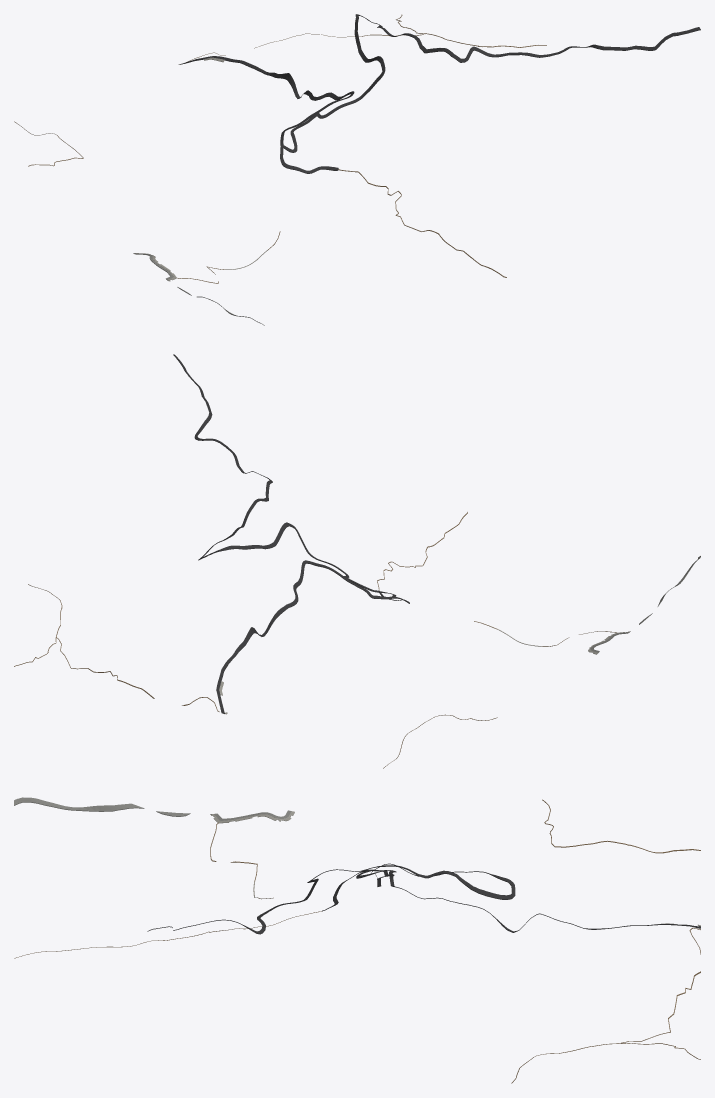
3 views of the same model, one above another, from view 1: azimuth 30°, elevation 25°; view 2: azimuth 150°, elevation 25°; view 3: azimuth 270°, elevation 25° (orthographic). The views are drawn at different scales.
Size of the model in its own units: 1173 by 381 by 1167.
